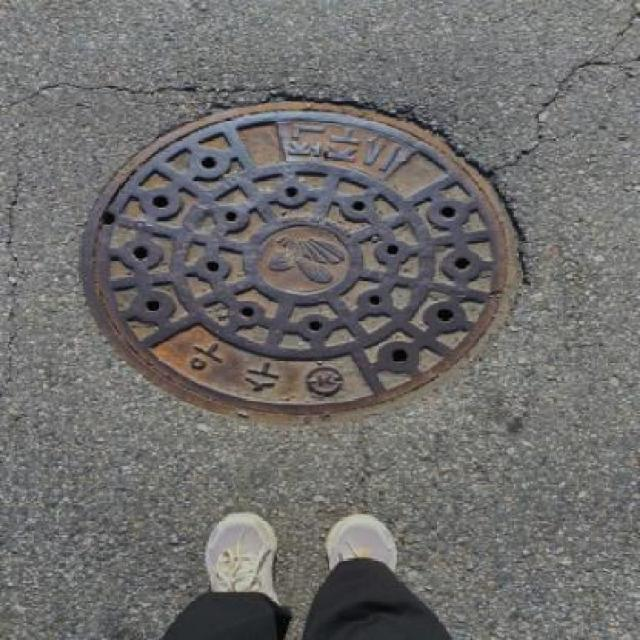Sewer Cover: (81, 77, 544, 417)
